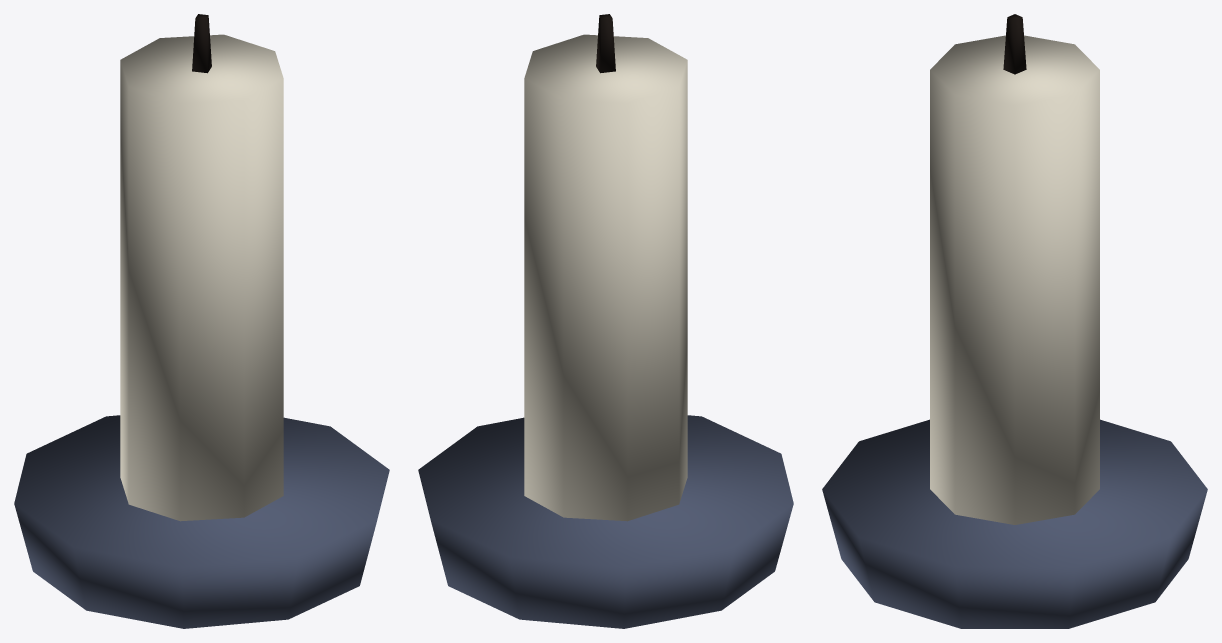
The model's file is granite_candle_v0.glb.
The picture shows the model from 3 angles, left to right: view 1: azimuth 30°, elevation 25°; view 2: azimuth 150°, elevation 25°; view 3: azimuth 270°, elevation 25°; orthographic projection.
Parts seen in each view (by area): view 1: granite_candle_v0; view 2: granite_candle_v0; view 3: granite_candle_v0.
Boxes of the visible parts, x1,y1,x2,y2 form: granite_candle_v0: (14, 14, 389, 628); granite_candle_v0: (418, 14, 793, 628); granite_candle_v0: (822, 14, 1207, 628).
Size of the model in its own units: 0.0951 by 0.155 by 0.1.
